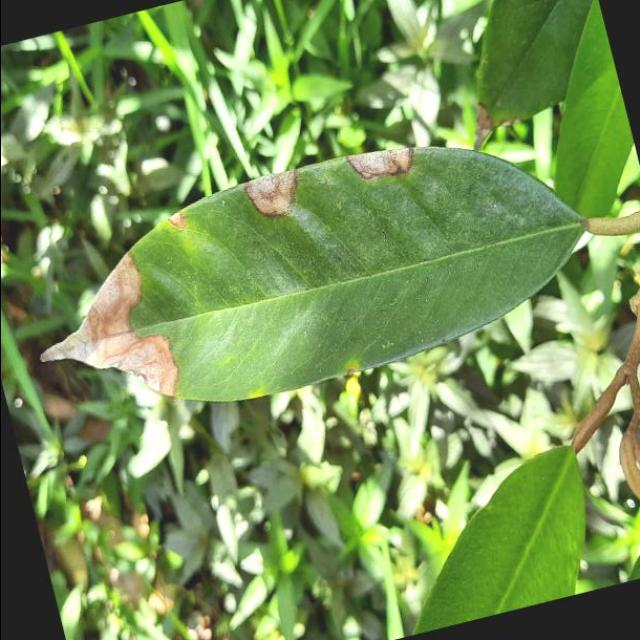Leaf Blight: (0, 86, 617, 462)
